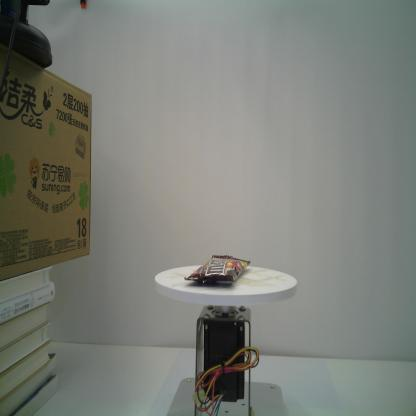Chocolate: (184, 255, 251, 284)
